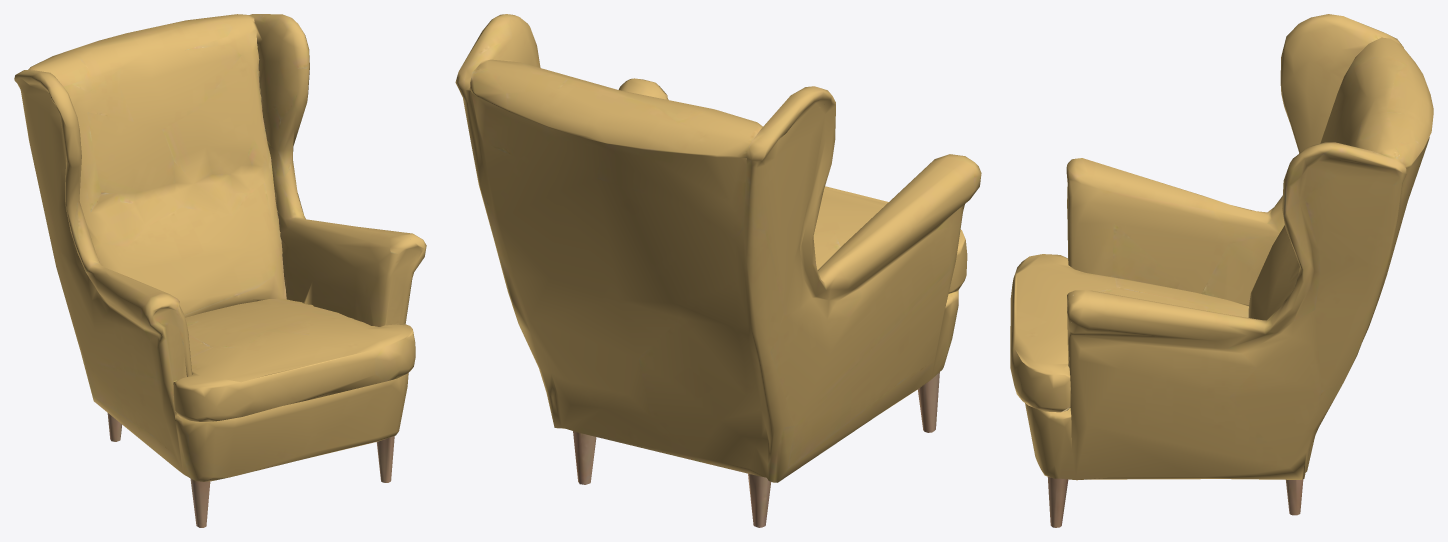
File: 00613165-mini.glb
The picture shows the model from 3 angles, left to right: view 1: azimuth 30°, elevation 25°; view 2: azimuth 150°, elevation 25°; view 3: azimuth 270°, elevation 25°; orthographic projection. The views are drawn at different scales.
Parts seen in each view (by area): view 1: ASY_ART_00613165_S01_NV01; view 2: ASY_ART_00613165_S01_NV01; view 3: ASY_ART_00613165_S01_NV01.
Part boxes in pixels (<box>): ASY_ART_00613165_S01_NV01: <box>14,14,426,527</box>; ASY_ART_00613165_S01_NV01: <box>455,14,981,527</box>; ASY_ART_00613165_S01_NV01: <box>1010,14,1433,527</box>.
Bounding box in the file's own units: 0.8134 × 1.01 × 0.9771.
Materials: 1 (1 with a texture image).
